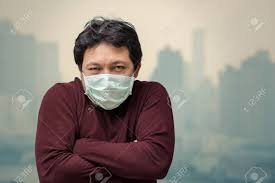mask: (69, 10, 156, 117)
